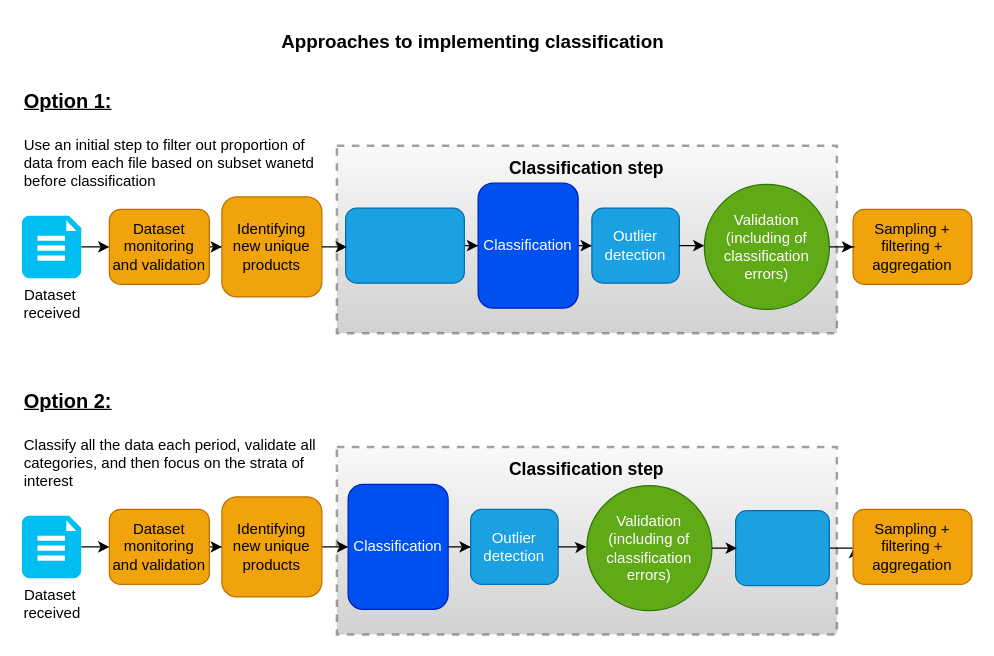
Some shapes in this 994 by 656 pixel diagram are drawn without their labels. Each missing label, with the centre of its shape:
"Filtering retailer file for section of interest" goes at pixel 404 245.
"Selection of the strata of interest" goes at pixel 781 547.
